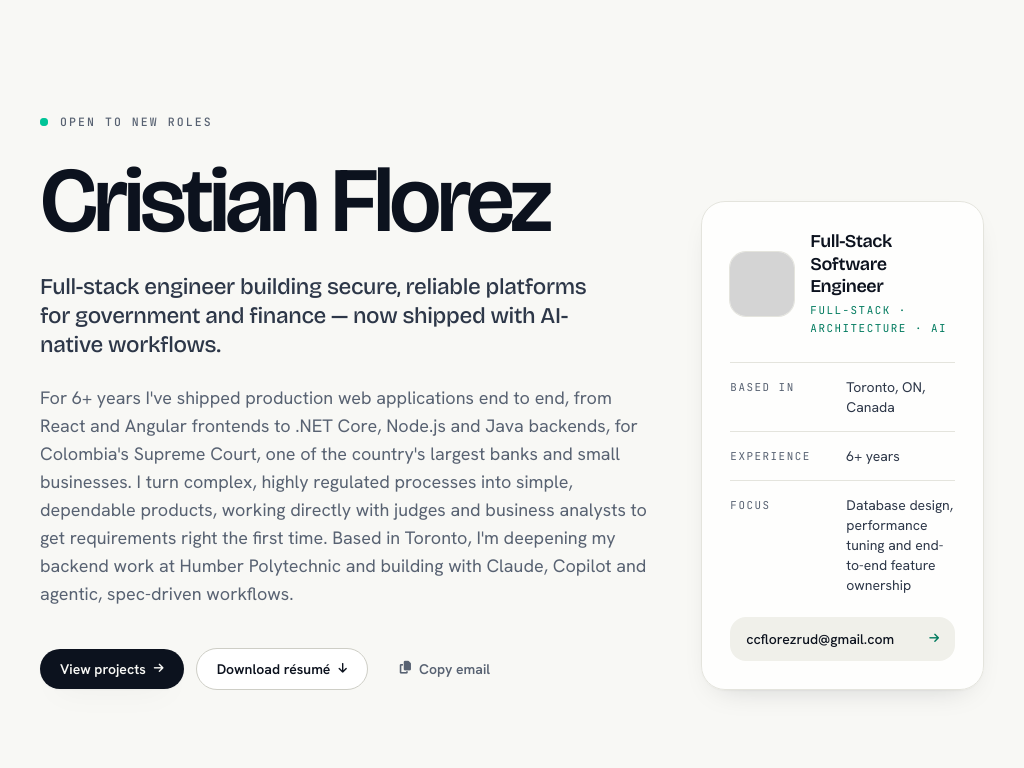
Test case: HomePage › copies the email address from the hero
Click the button "Copy email": (445, 669) [380,649,510,689]
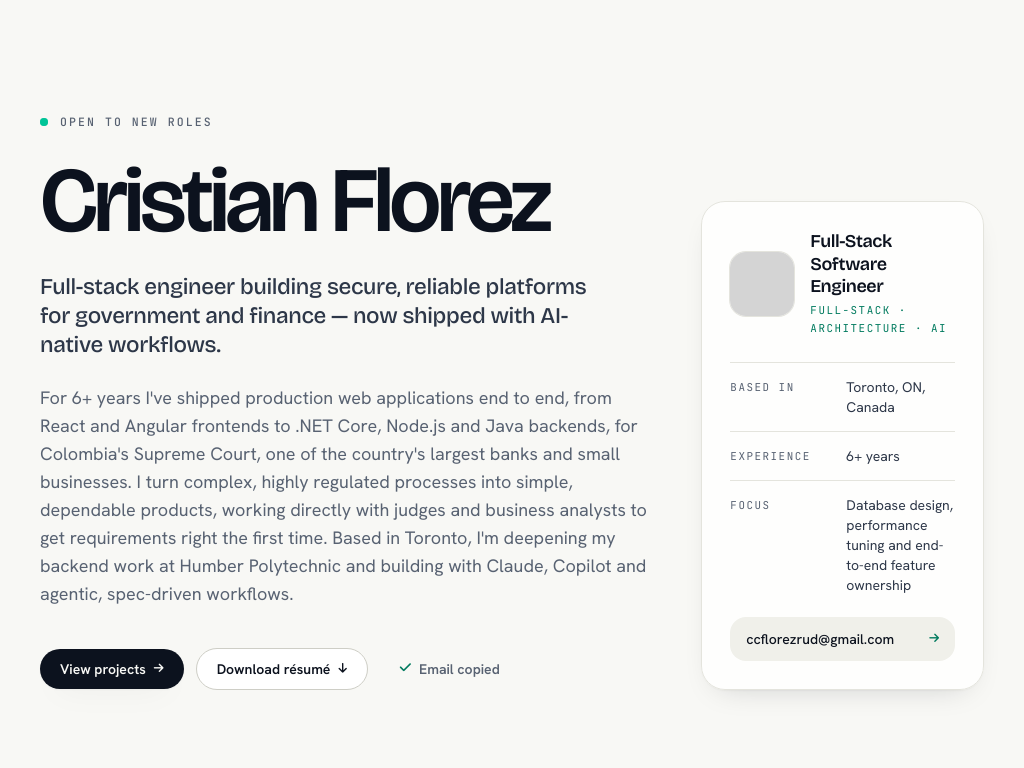
Expected: the button "Email copied" is shown, [380,649,520,689]
